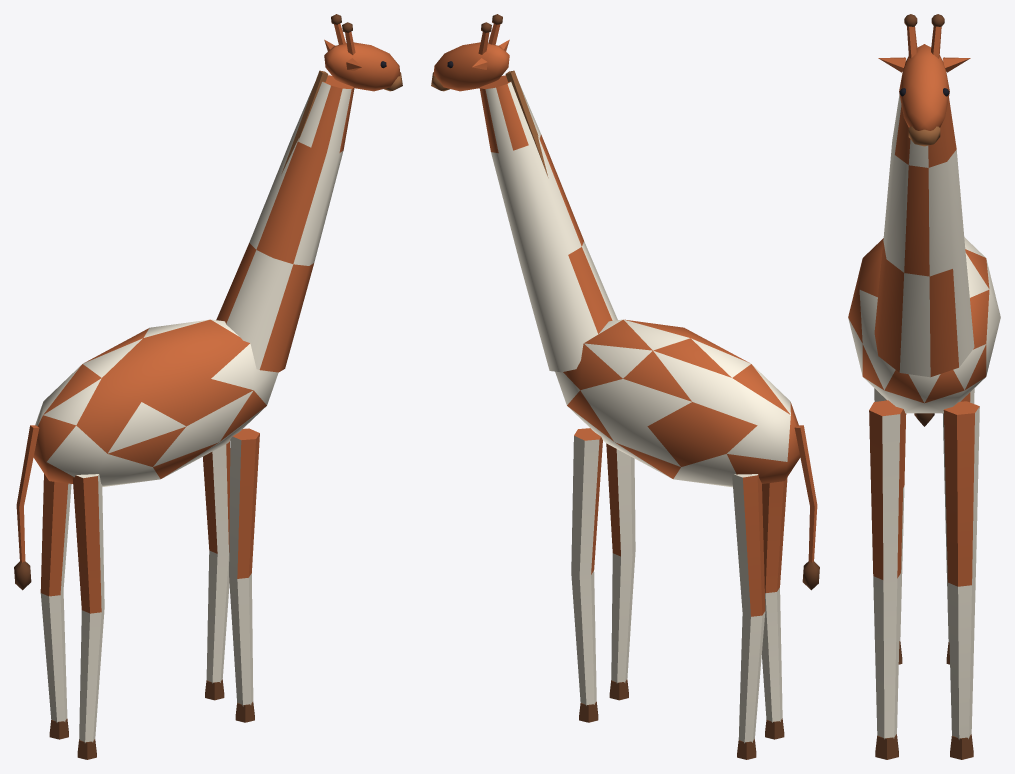
Rendered from Giraffe.fbx.
The picture shows the model from 3 angles, left to right: view 1: azimuth 30°, elevation 25°; view 2: azimuth 150°, elevation 25°; view 3: azimuth 270°, elevation 25°; orthographic projection. The views are drawn at different scales.
Visible parts, largest first — view 1: Giraffe; view 2: Giraffe; view 3: Giraffe.
Boxes of the visible parts, left/top/right/bottom form: Giraffe: left=14, top=14, right=402, bottom=759; Giraffe: left=431, top=14, right=819, bottom=759; Giraffe: left=848, top=14, right=1000, bottom=759.
Bounding box in the file's own units: 3.2 × 5.24 × 0.9.
Materials: 1 (1 with a texture image).
